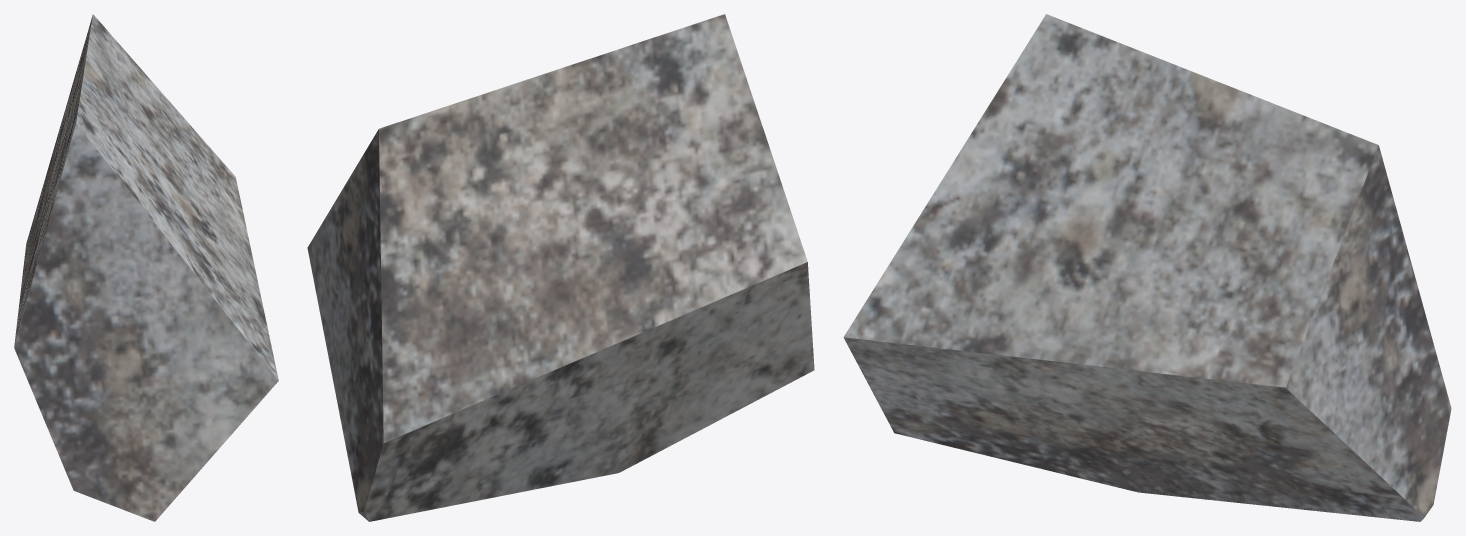
The model's file is Asteroid_Large_001_02_007_03_020.fbx.
The picture shows the model from 3 angles, left to right: view 1: azimuth 30°, elevation 25°; view 2: azimuth 150°, elevation 25°; view 3: azimuth 270°, elevation 25°; orthographic projection. The views are drawn at different scales.
Visible parts, largest first — view 1: Asteroid_Large_001_02_007_03_020; view 2: Asteroid_Large_001_02_007_03_020; view 3: Asteroid_Large_001_02_007_03_020.
Part boxes in pixels (x1,y1,x2,y2): Asteroid_Large_001_02_007_03_020: [14, 14, 278, 521]; Asteroid_Large_001_02_007_03_020: [307, 14, 814, 521]; Asteroid_Large_001_02_007_03_020: [843, 14, 1451, 521].
Bounding box in the file's own units: 5.68 × 6.35 × 7.8.
